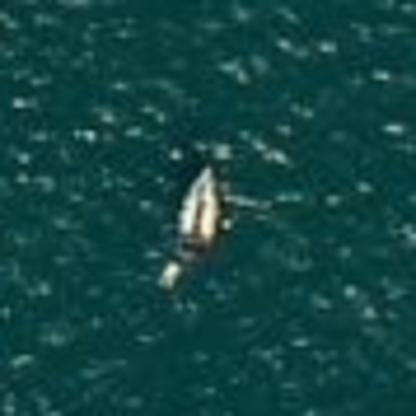ship: (139, 154, 238, 300)
